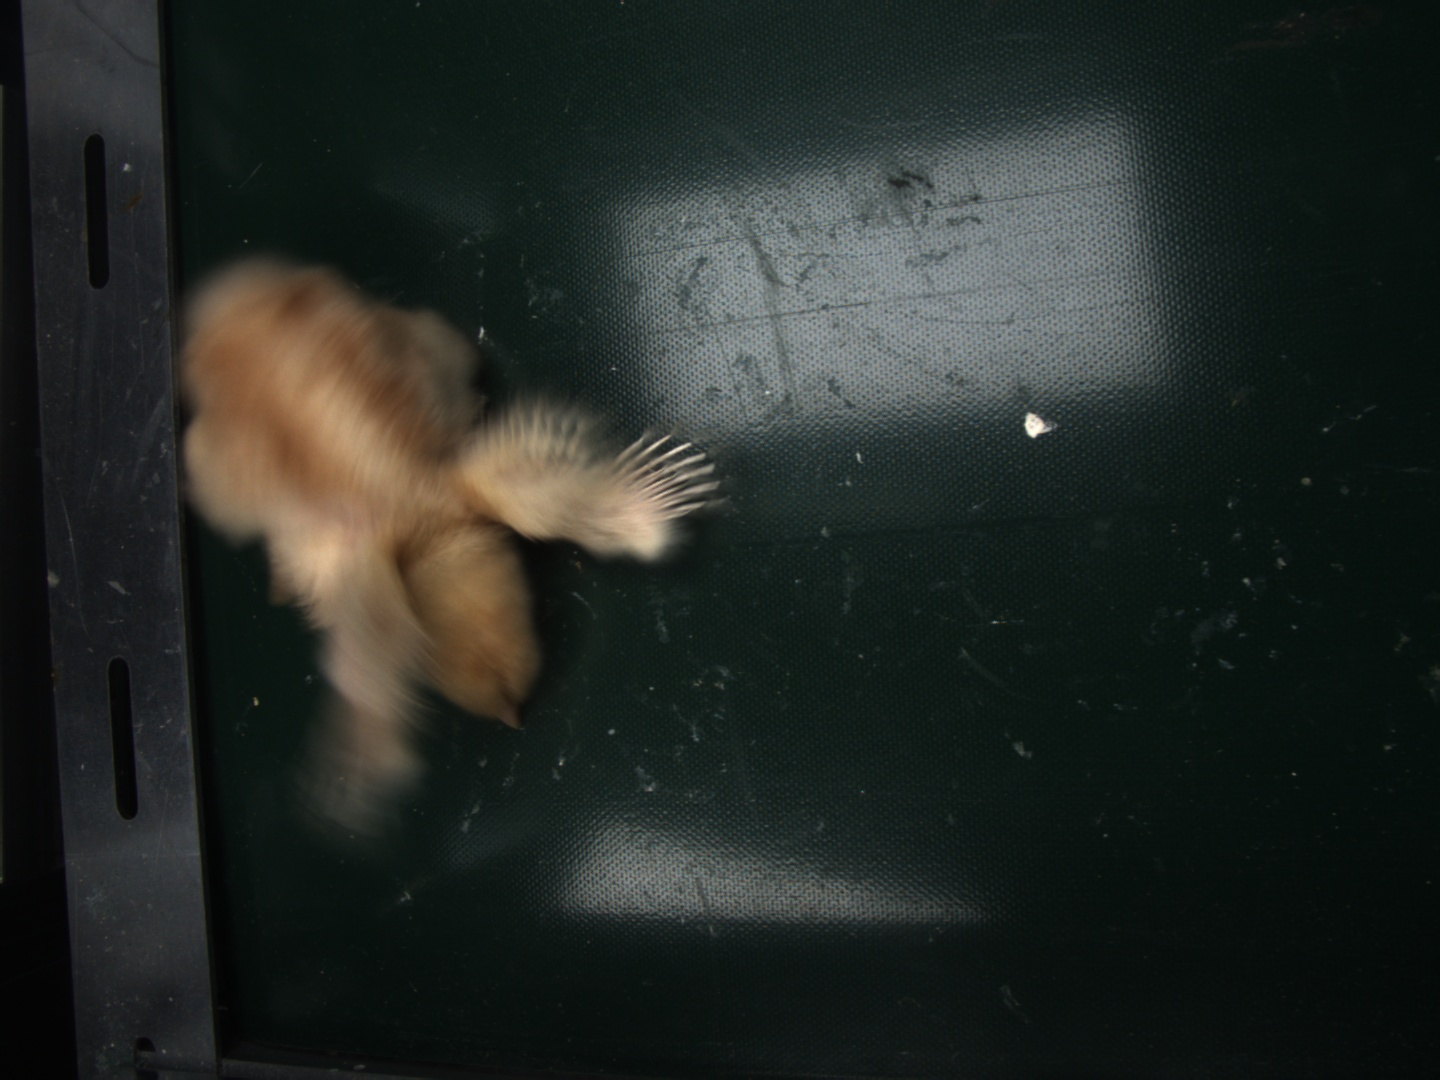female: (612, 433, 725, 520)
